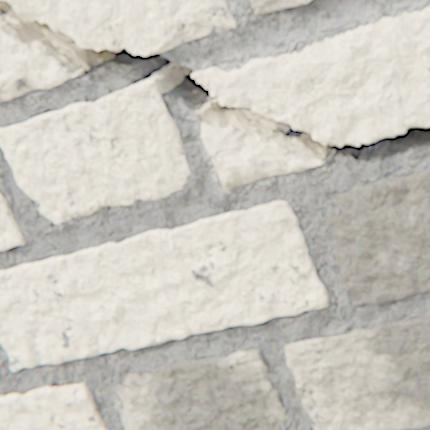brick: (0, 200, 329, 370), (0, 79, 190, 224), (286, 315, 429, 429), (115, 348, 287, 429), (326, 169, 429, 304), (0, 381, 107, 429), (0, 190, 26, 249), (251, 0, 312, 15)
broken_brick: (193, 6, 429, 145), (4, 0, 237, 55), (196, 113, 320, 190), (0, 28, 74, 102)
crack: (0, 0, 429, 172), (211, 24, 222, 30)
